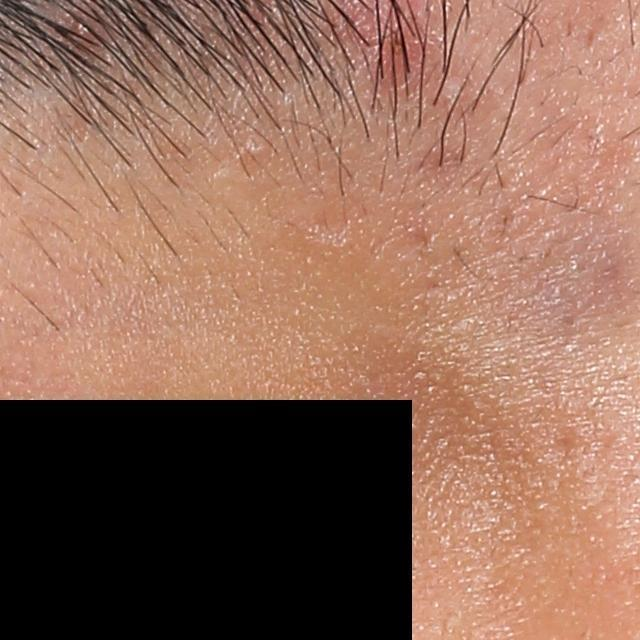comedo: (241, 135, 268, 164)
